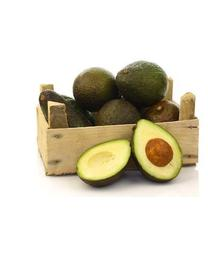avocado: (132, 118, 184, 184), (75, 137, 134, 188), (115, 61, 168, 106), (74, 67, 117, 110)
